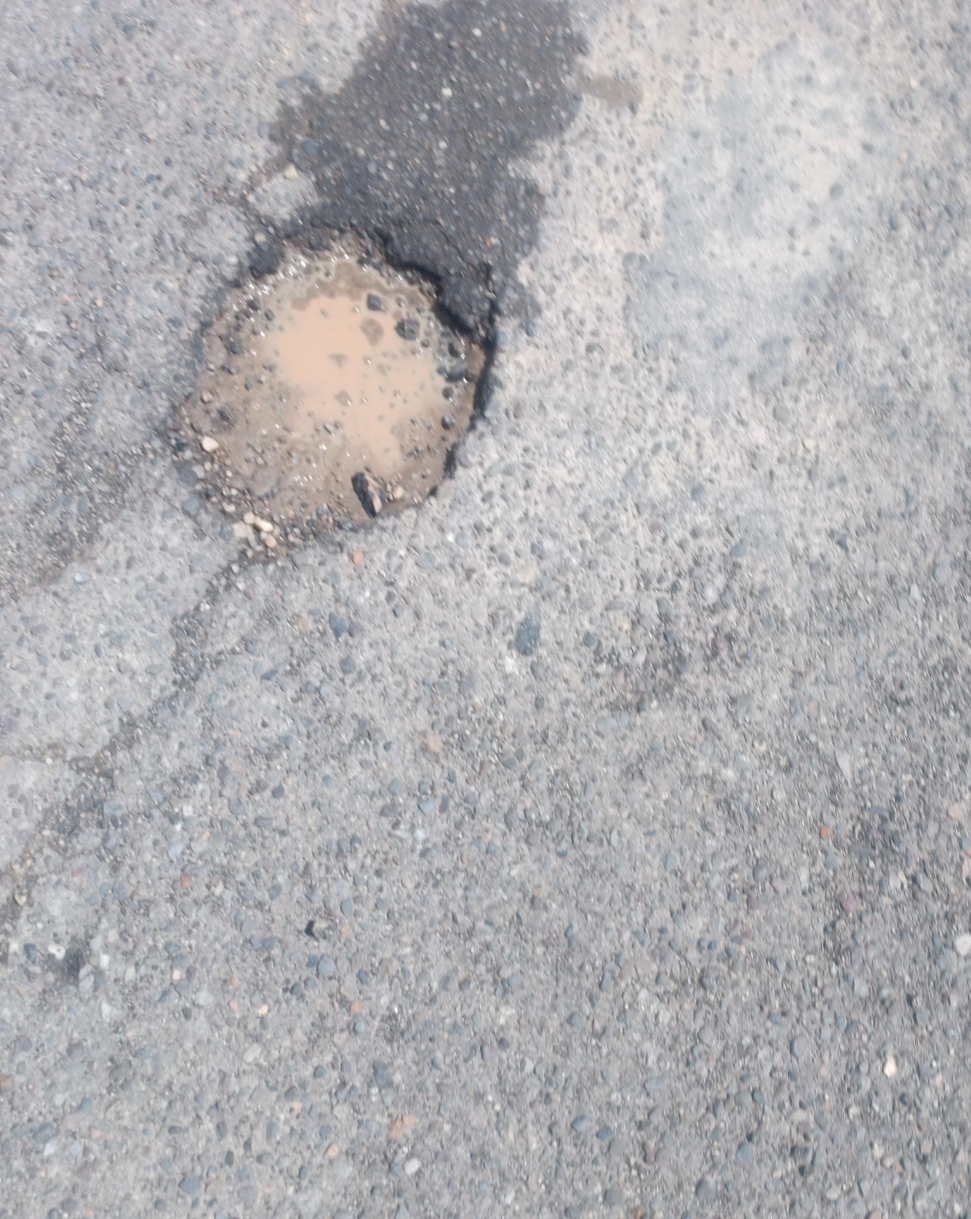BACHE: (160, 227, 491, 544)
PIEL DE COCODRILO: (0, 113, 351, 957)
